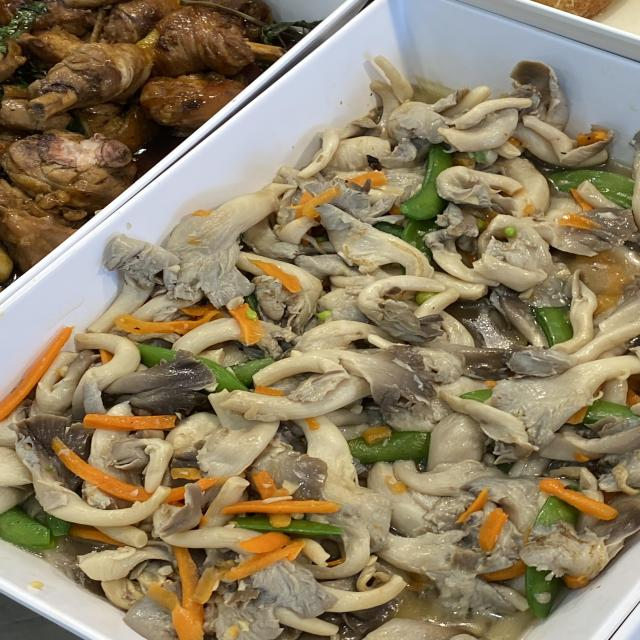Fushan-lettuceStir-fried Sweet Beans with Oyster Mushrooms: (181, 245, 619, 576)
